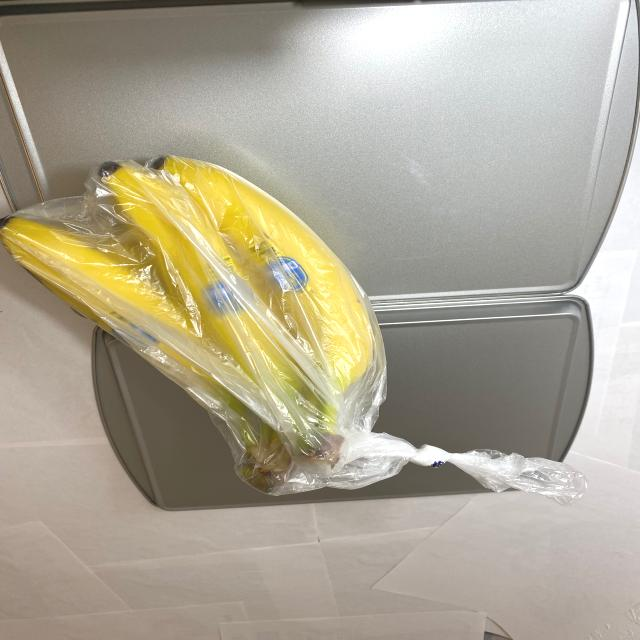banana: (3, 132, 397, 500)
